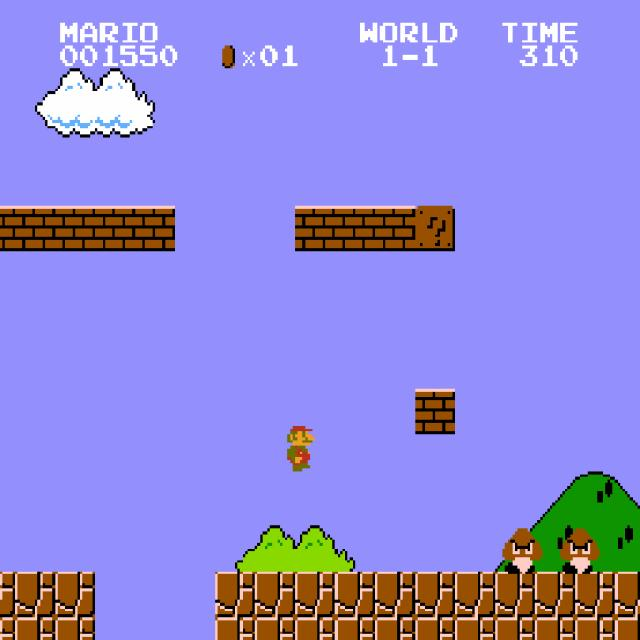brick_block: (15, 206, 55, 251), (55, 206, 95, 251), (95, 206, 135, 251), (135, 206, 175, 251), (295, 206, 335, 251), (335, 206, 375, 251), (375, 206, 415, 251), (415, 389, 455, 434), (0, 206, 15, 251)
goomba: (500, 526, 543, 574), (557, 526, 600, 574)
little_mario: (277, 423, 320, 471)
mystery_block: (415, 206, 455, 251)
undestructible_block: (15, 572, 55, 617), (55, 572, 95, 617), (215, 572, 255, 617), (255, 572, 295, 617), (295, 572, 335, 617), (335, 572, 375, 617), (375, 572, 415, 617), (415, 572, 455, 617), (455, 572, 495, 617), (495, 572, 535, 617), (535, 572, 575, 617), (575, 572, 615, 617), (614, 571, 640, 617), (15, 617, 55, 640), (55, 617, 95, 640), (215, 617, 255, 640), (255, 617, 295, 640), (295, 617, 335, 640), (335, 617, 375, 640), (375, 617, 415, 640), (415, 617, 455, 640), (455, 617, 495, 640), (495, 617, 535, 640), (535, 617, 575, 640), (575, 617, 615, 640), (0, 572, 15, 617), (614, 617, 640, 639), (0, 617, 15, 640)
